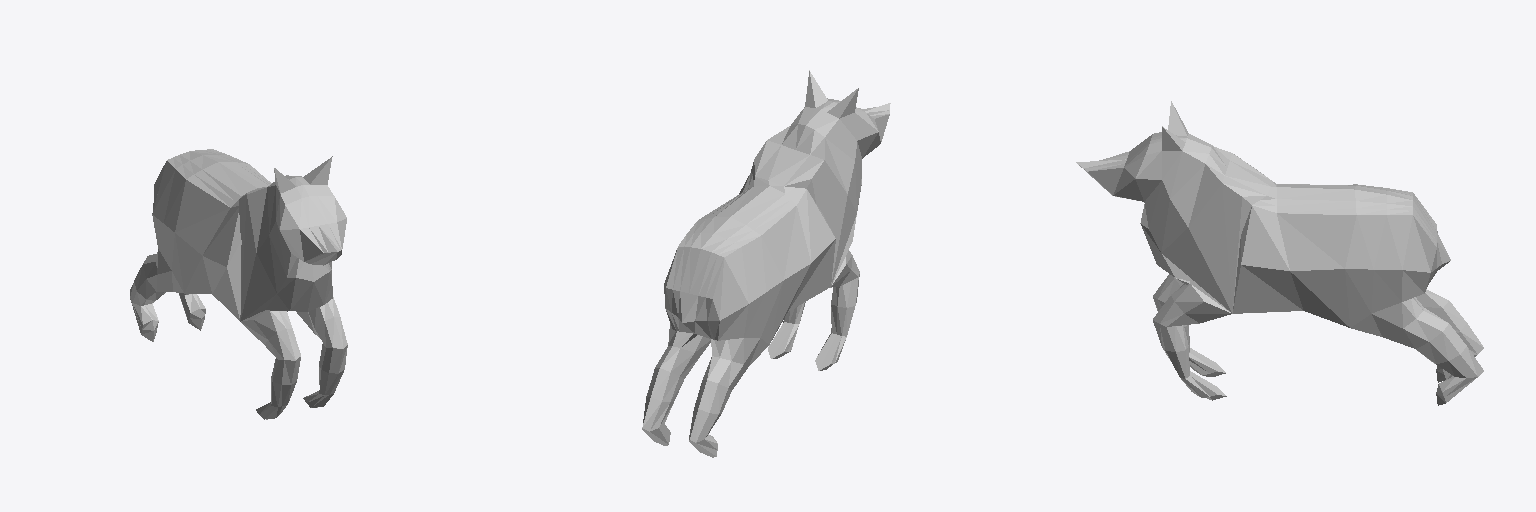
The model's file is piesblend_000009.obj.
3 views of the same model, side by side, from view 1: azimuth 30°, elevation 25°; view 2: azimuth 150°, elevation 25°; view 3: azimuth 270°, elevation 25° (orthographic).
Parts seen in each view (by area): view 1: Cube; view 2: Cube; view 3: Cube.
Boxes of the visible parts, <box> form: Cube: <box>130,149,347,419</box>; Cube: <box>642,70,890,457</box>; Cube: <box>1076,101,1483,405</box>.
Size of the model in its own units: 2.56 by 6.97 by 9.32.